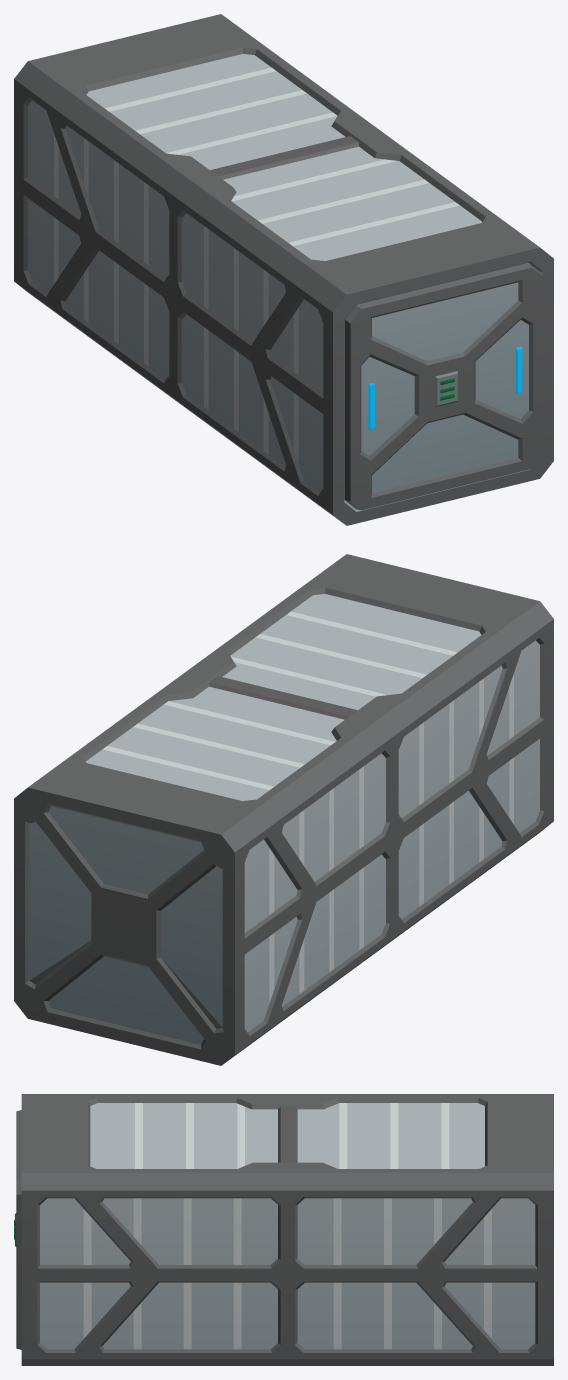
File: Container_type_A_007.glb
The picture shows the model from 3 angles, top to bottom: view 1: azimuth 30°, elevation 25°; view 2: azimuth 150°, elevation 25°; view 3: azimuth 270°, elevation 25°; orthographic projection. The views are drawn at different scales.
Visible parts, largest first — view 1: Container_type_A_007, Container_type_A_door_007; view 2: Container_type_A_007; view 3: Container_type_A_007, Container_type_A_door_007.
Part boxes in pixels (x1,y1,x2,y2): Container_type_A_007: (14, 14, 553, 525); Container_type_A_door_007: (344, 263, 542, 510); Container_type_A_007: (14, 554, 553, 1065); Container_type_A_007: (21, 1094, 553, 1365); Container_type_A_door_007: (14, 1110, 21, 1349).
Size of the model in its own units: 2.4 by 2.4 by 6.08.
2 materials, 2 textured.
